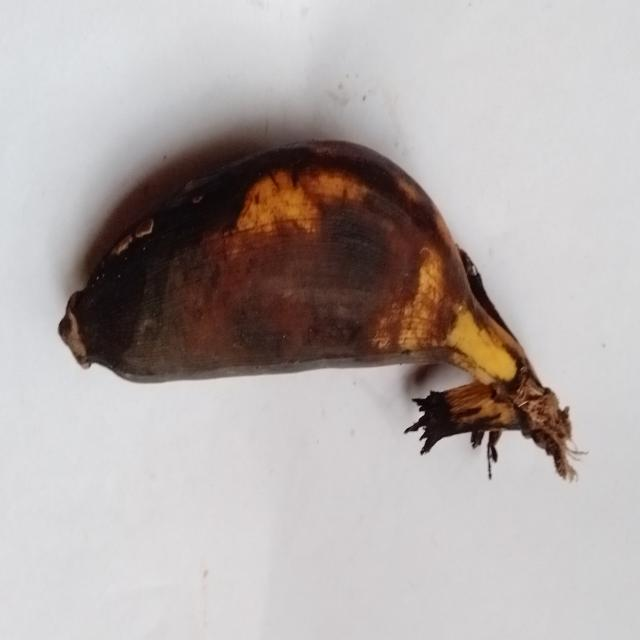banana: (60, 142, 573, 477)
